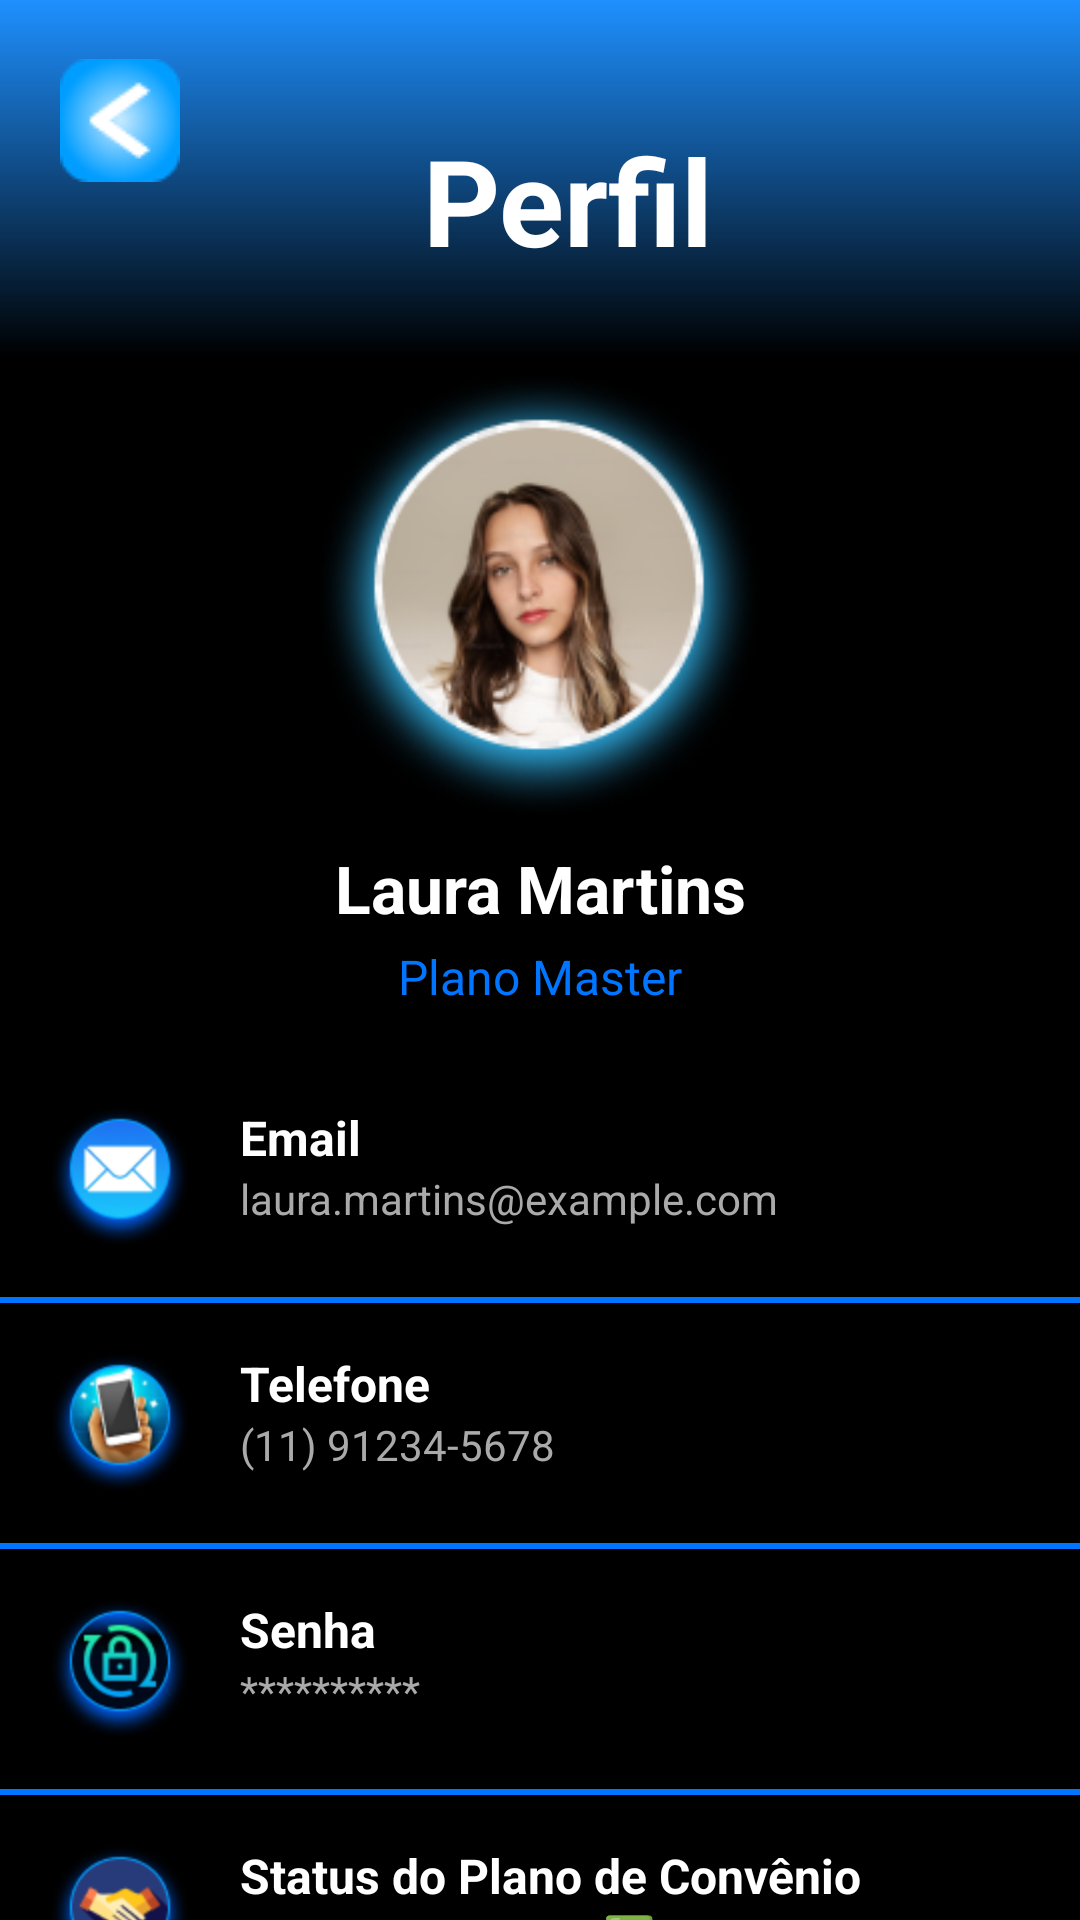

Icons on this 1080w x 1920h Android screen, each with the point to tap as point (x, y):
Voltar para Cadastro: point (120, 120)
